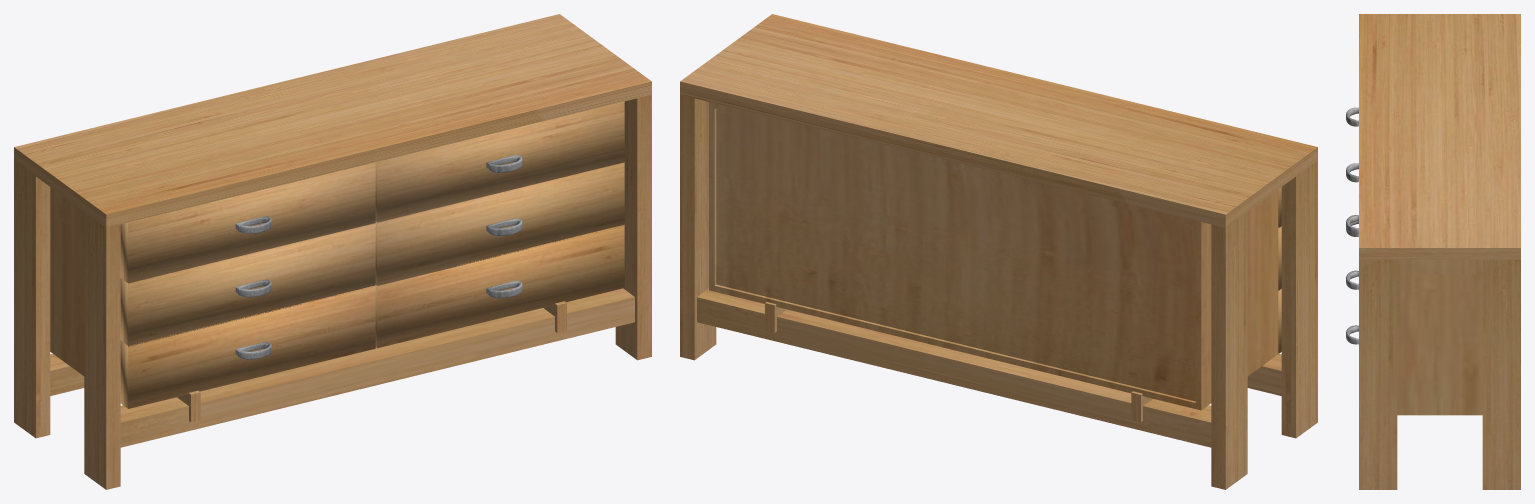
The model's file is comoda.glb.
3 renders of one model, left to right at view 1: azimuth 30°, elevation 25°; view 2: azimuth 150°, elevation 25°; view 3: azimuth 270°, elevation 25°, orthographic. The views are drawn at different scales.
Parts seen in each view (by area): view 1: Cube.001, cajon.004, cajon.005, cajon.002, cajon.003, cajon, cajon.001; view 2: Cube.001; view 3: Cube.001.
Boxes of the visible parts, bbox=[...] form: Cube.001: bbox=[14, 14, 651, 489]; cajon.004: bbox=[120, 285, 375, 408]; cajon.005: bbox=[120, 223, 375, 346]; cajon.002: bbox=[375, 162, 624, 285]; cajon.003: bbox=[375, 224, 624, 348]; cajon: bbox=[120, 162, 375, 283]; cajon.001: bbox=[375, 101, 624, 222]; Cube.001: bbox=[680, 14, 1317, 489]; Cube.001: bbox=[1359, 14, 1520, 489].
Bounding box in the file's own units: 7.07 × 3.41 × 2.23.
Materials: 3 (3 with a texture image).
